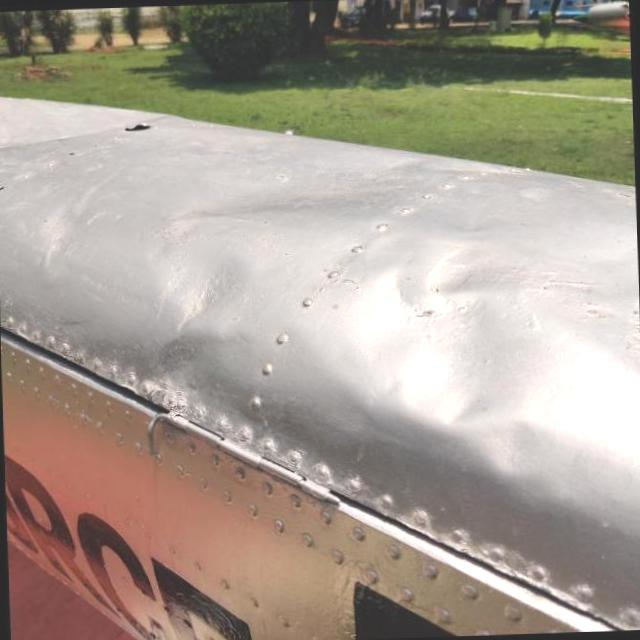dent: (332, 220, 559, 472), (154, 223, 262, 344), (195, 166, 382, 225)
